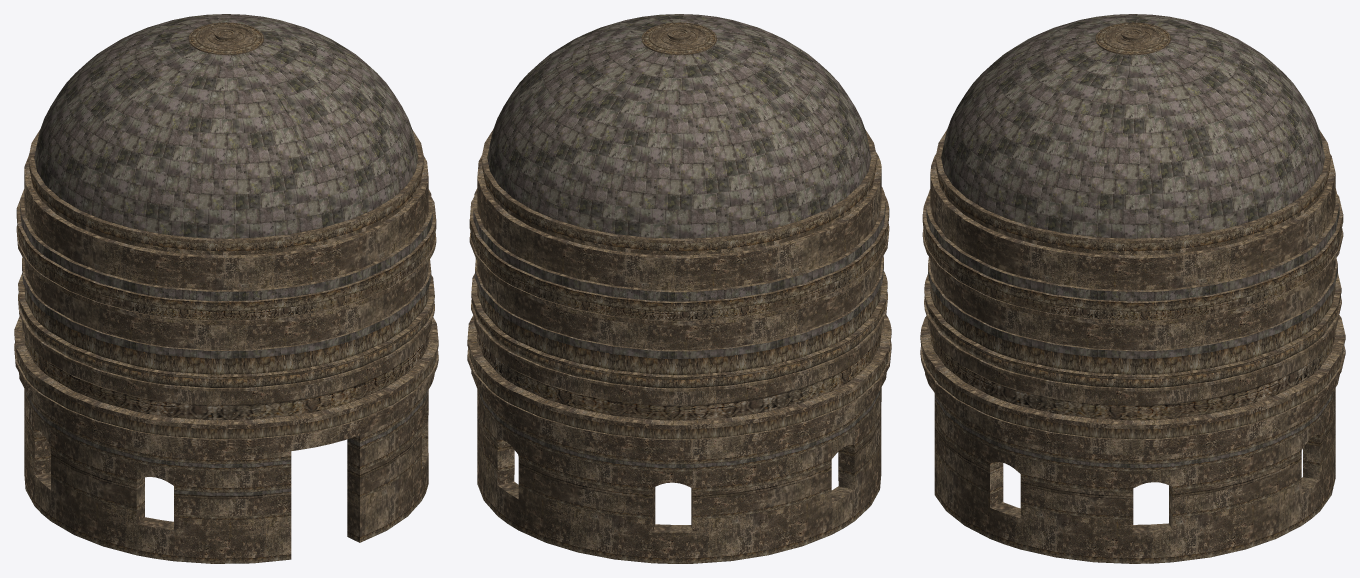
Rendered from materials_5_building_18.fbx.
3 views of the same model, side by side, from view 1: azimuth 30°, elevation 25°; view 2: azimuth 150°, elevation 25°; view 3: azimuth 270°, elevation 25° (orthographic).
Parts seen in each view (by area): view 1: materials_5_building_18; view 2: materials_5_building_18; view 3: materials_5_building_18.
Boxes of the visible parts, x1,y1,x2,y2 form: materials_5_building_18: [14, 14, 438, 563]; materials_5_building_18: [467, 14, 891, 563]; materials_5_building_18: [920, 14, 1345, 563].
Size of the model in its own units: 695 by 803 by 694.
